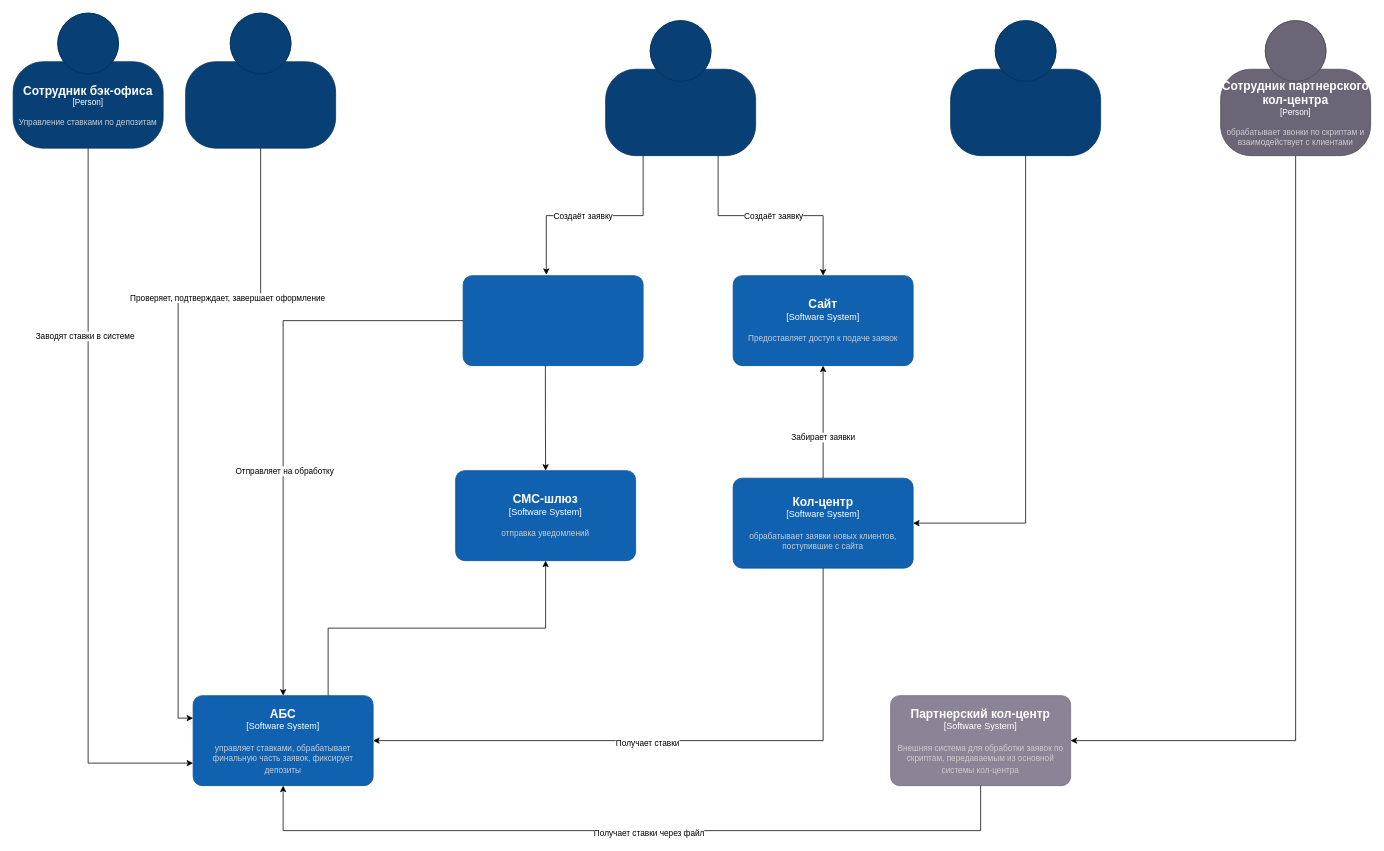
Some shapes in this 1384 by 851 pixel diagram are drawn without their labels. The shapes that lost their labels are listed below. From the top down, each one's box as (x1, y1, x2, y2) in pixels, then its label:
(185, 12, 336, 148): Менеджер бэк-офиса [Person] Обработка заявки на открытие депозита
(605, 20, 756, 156): Пользователь [Person]
(950, 20, 1101, 156): Менеджер кол-центра [Person] Обработка заявки с сайта
(462, 275, 643, 366): Интернет-банк [Software System] Предоставляет доступ к подаче заявок
